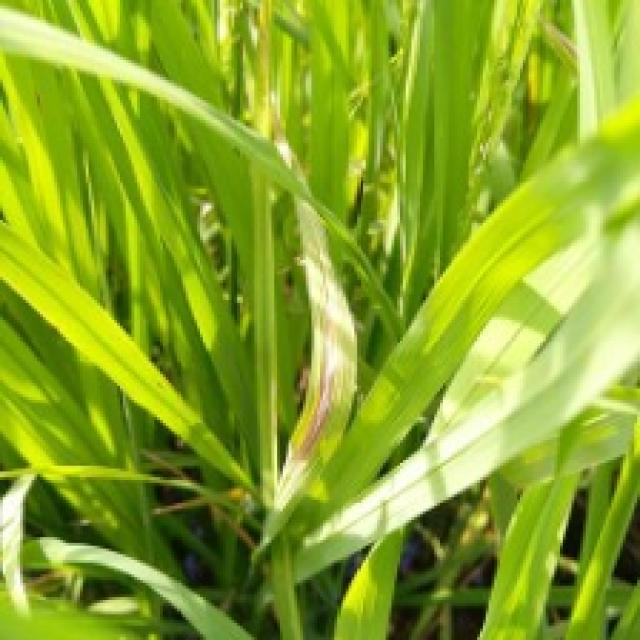Rice___Rice_Blast: (248, 115, 361, 582)
